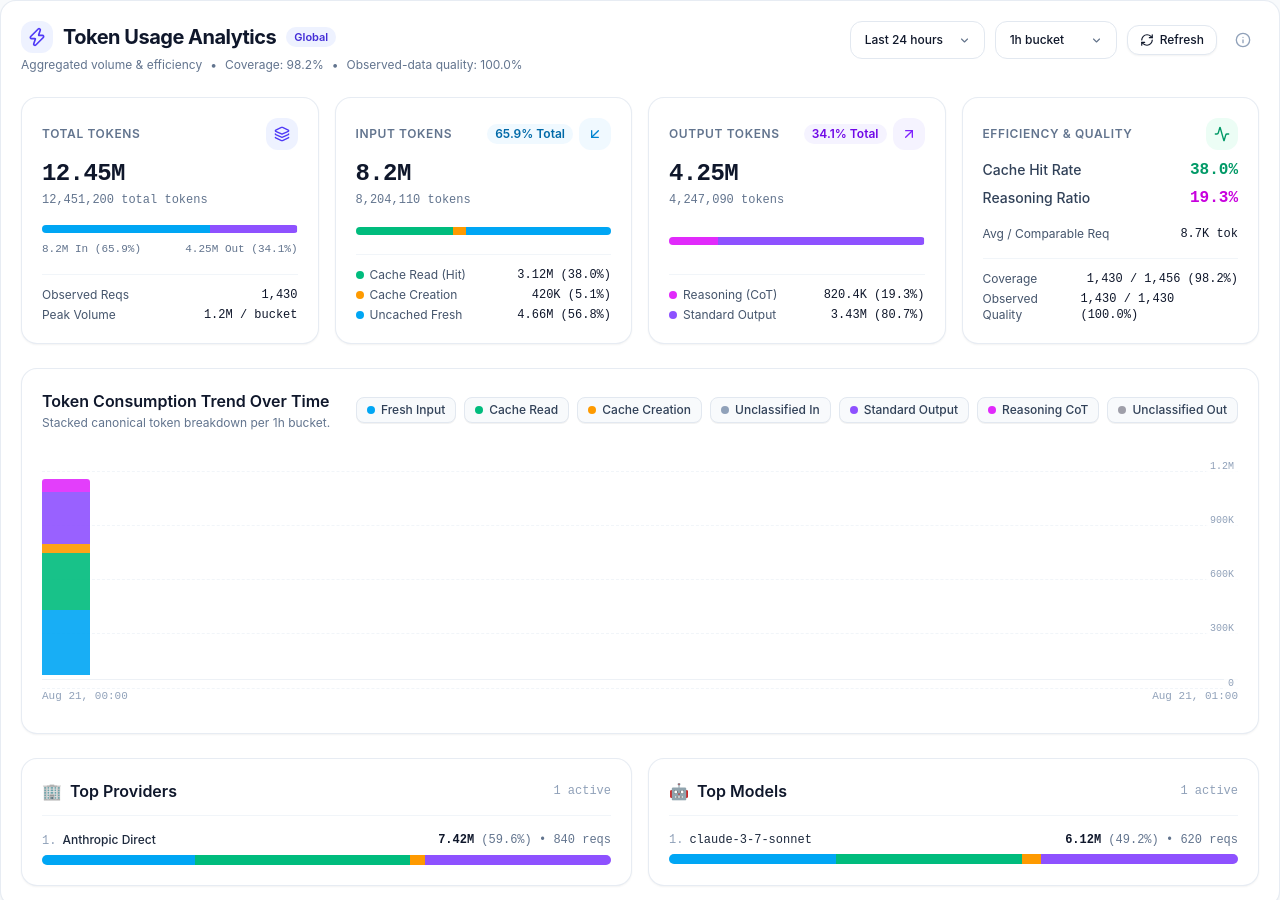
Test: TokenUsageAnalyticsPanel › opens and closes the information modal
Step 1. Click the button named "Token usage analytics information" → (1243, 40), box [1227,24,1259,56]
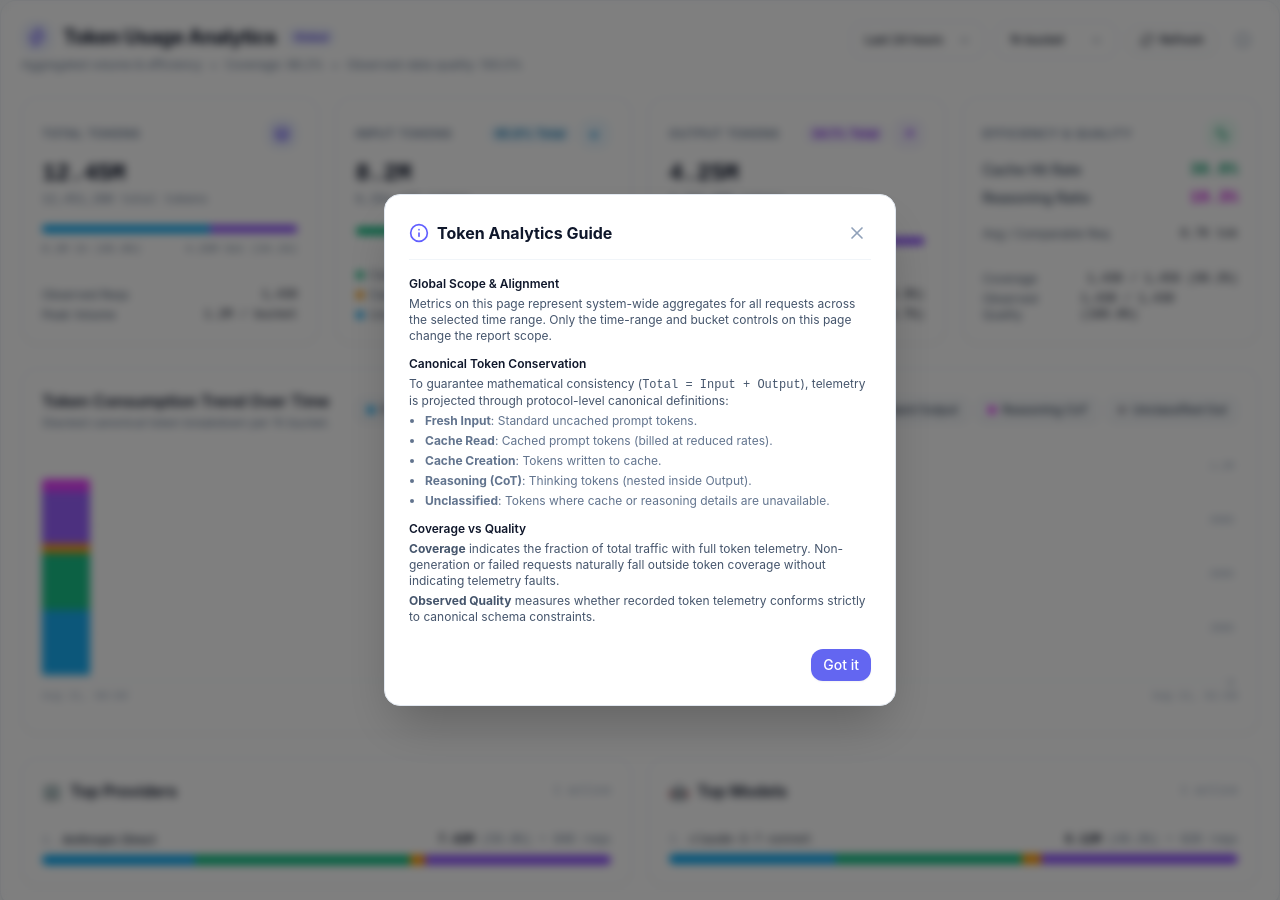
Expected: the heading "Token Analytics Guide" is shown, [409,221,612,245]
Expected: the heading "Canonical Token Conservation" is shown, [409,356,586,371]
Step 2. Click the button "Got it" → (841, 665), box [811,649,871,681]
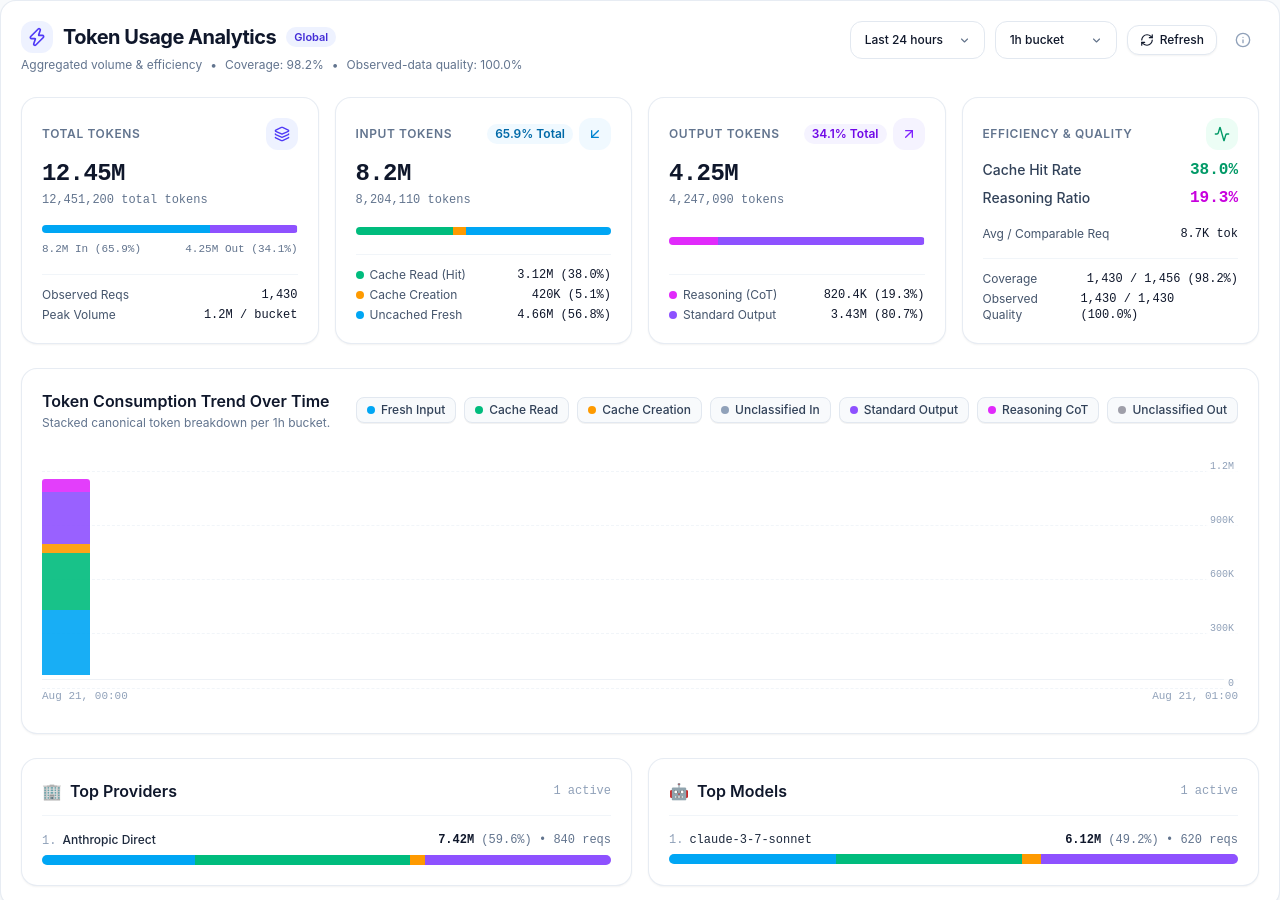
Expected: the heading "Token Analytics Guide" is gone
